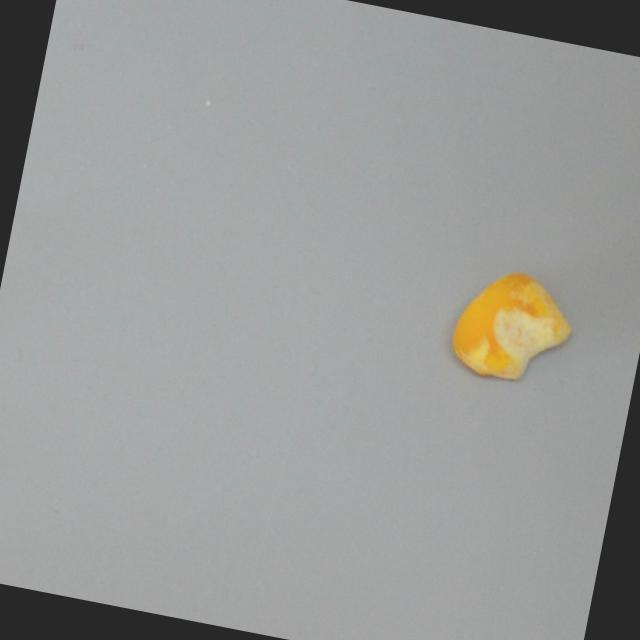pelicula: (441, 255, 588, 397)
